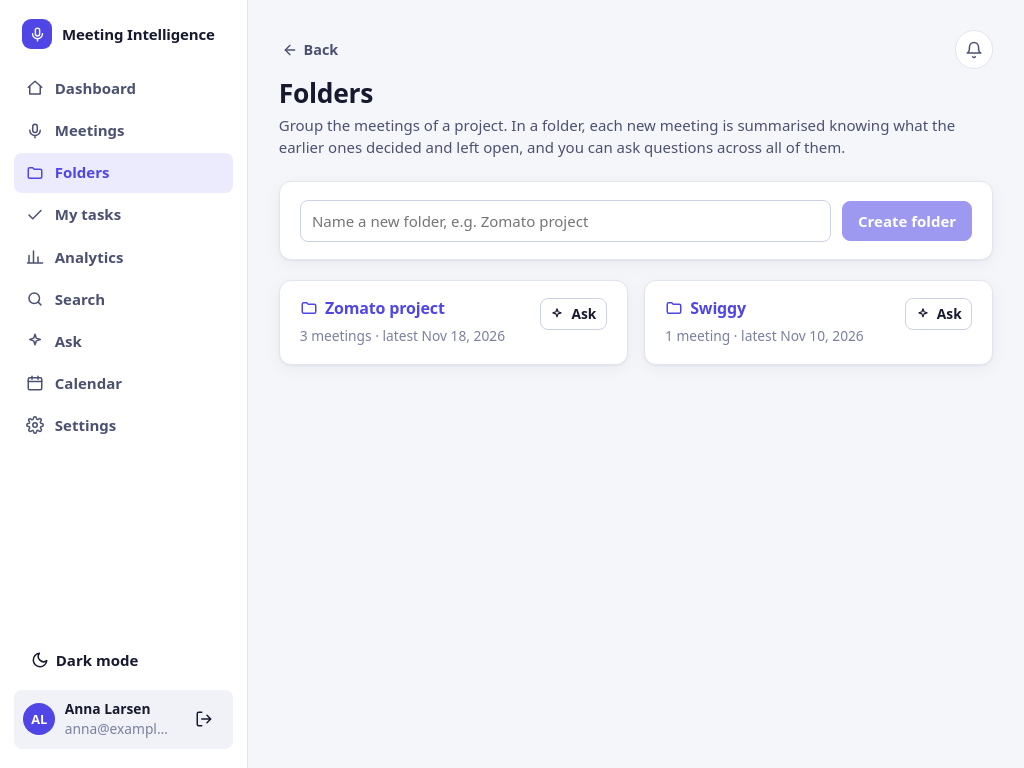
Test case: the Folders page › creates a folder and opens it
The image size is (1024, 768).
expect the button "Create folder" is disabled: met, box [842,201,972,241]
Type "New one" into the field named "New folder name" at (565, 221), box [300,200,831,242]
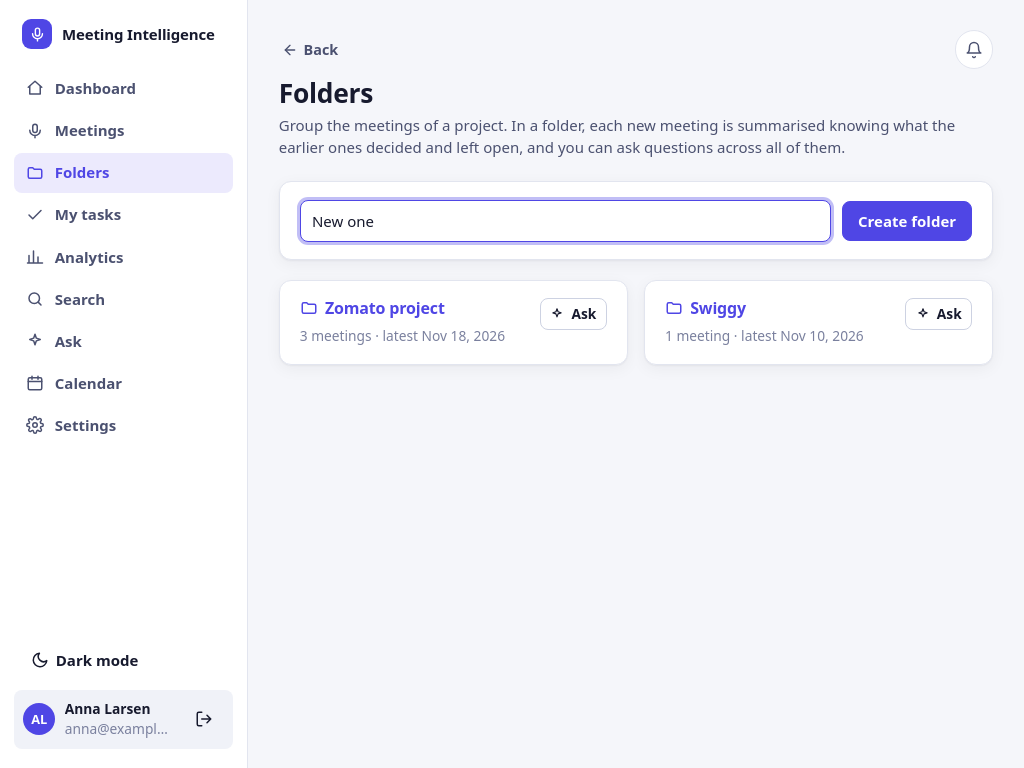
Click the button "Create folder" at (907, 221), box [842,201,972,241]
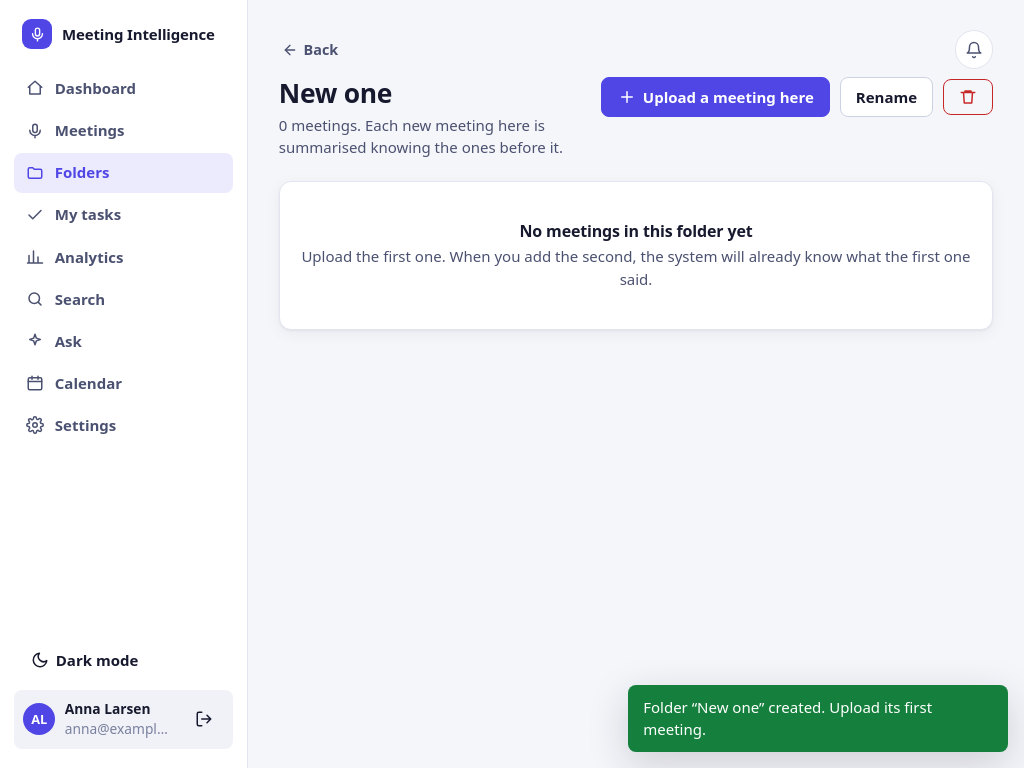
expect the heading "New one" is shown: met, box [279,75,392,111]
expect the heading "No meetings in this folder yet" is shown: met, box [520,220,752,242]
